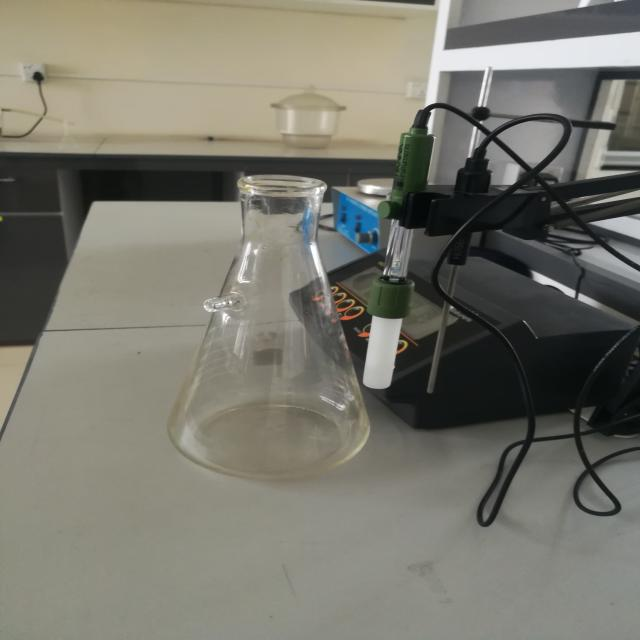Conical_Flask: (157, 133, 404, 497)
